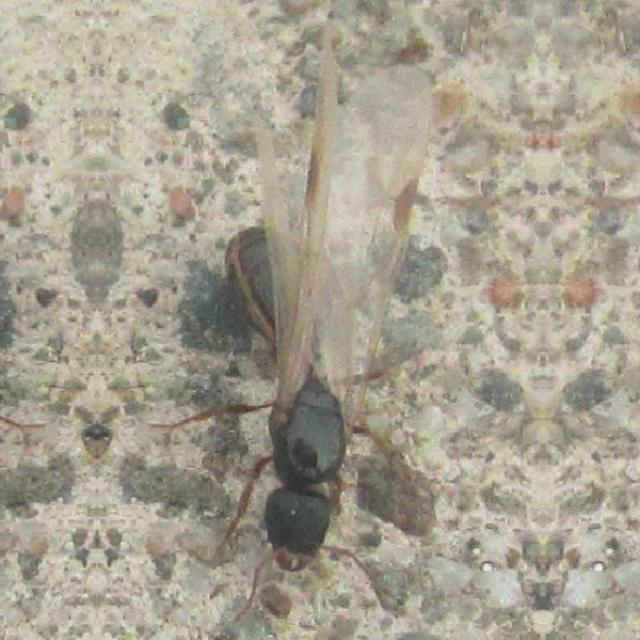Tetramorium: (180, 198, 408, 584)
